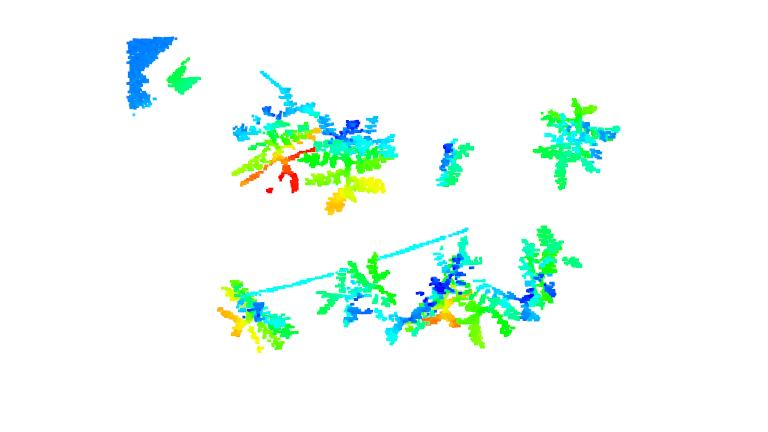chickpea: (457, 223, 583, 350), (384, 231, 484, 345), (302, 115, 400, 216), (230, 86, 318, 193), (528, 97, 623, 192), (213, 279, 299, 352), (314, 251, 395, 327), (433, 134, 476, 189)
